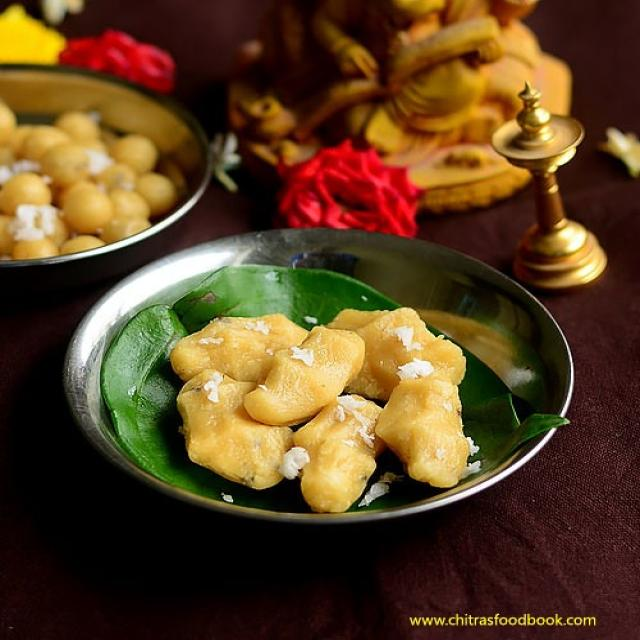pidi kolukattai: (148, 299, 479, 517)
